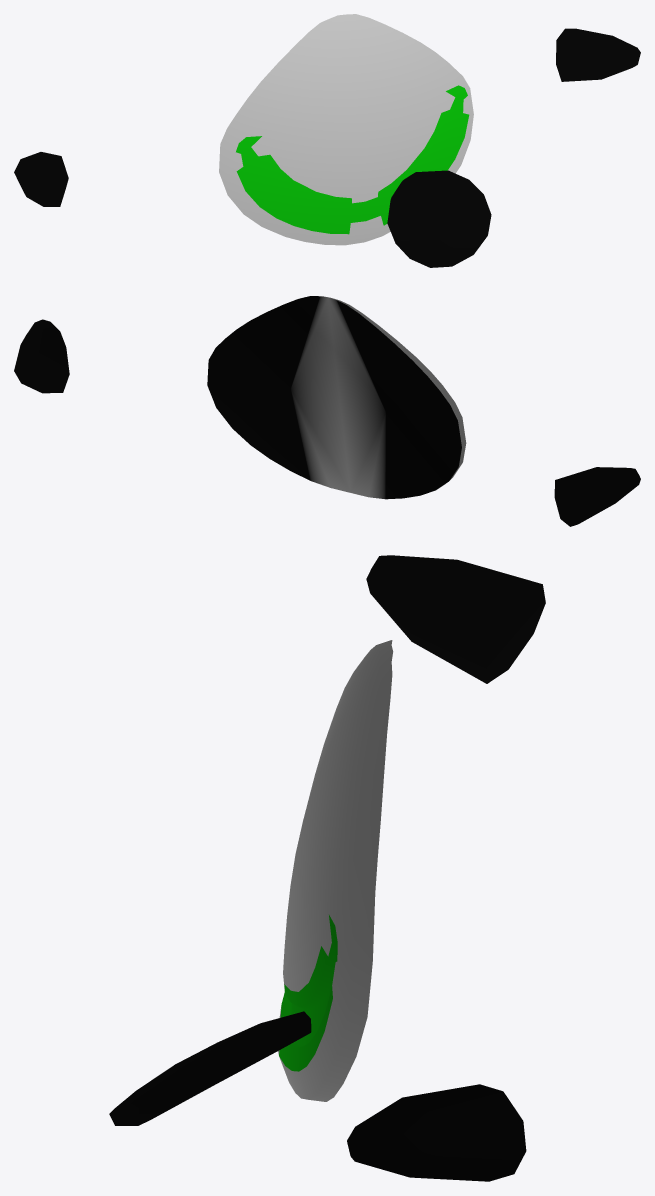
Rendered from S00_Plant08_L2_Mouth.glb.
The picture shows the model from 3 angles, top to bottom: view 1: azimuth 30°, elevation 25°; view 2: azimuth 150°, elevation 25°; view 3: azimuth 270°, elevation 25°; orthographic projection. The views are drawn at different scales.
Parts seen in each view (by area): view 1: S00_Plant08_L2_Mouth__Mouth_M__surface0__lod0; view 2: S00_Plant08_L2_Mouth__Mouth_M__surface0__lod0; view 3: S00_Plant08_L2_Mouth__Mouth_M__surface0__lod0.
Boxes of the visible parts, <box> form: S00_Plant08_L2_Mouth__Mouth_M__surface0__lod0: <box>14,14,640,267</box>; S00_Plant08_L2_Mouth__Mouth_M__surface0__lod0: <box>14,296,640,526</box>; S00_Plant08_L2_Mouth__Mouth_M__surface0__lod0: <box>109,555,545,1181</box>.
Size of the model in its own units: 0.7612 by 0.2575 by 0.2387.
